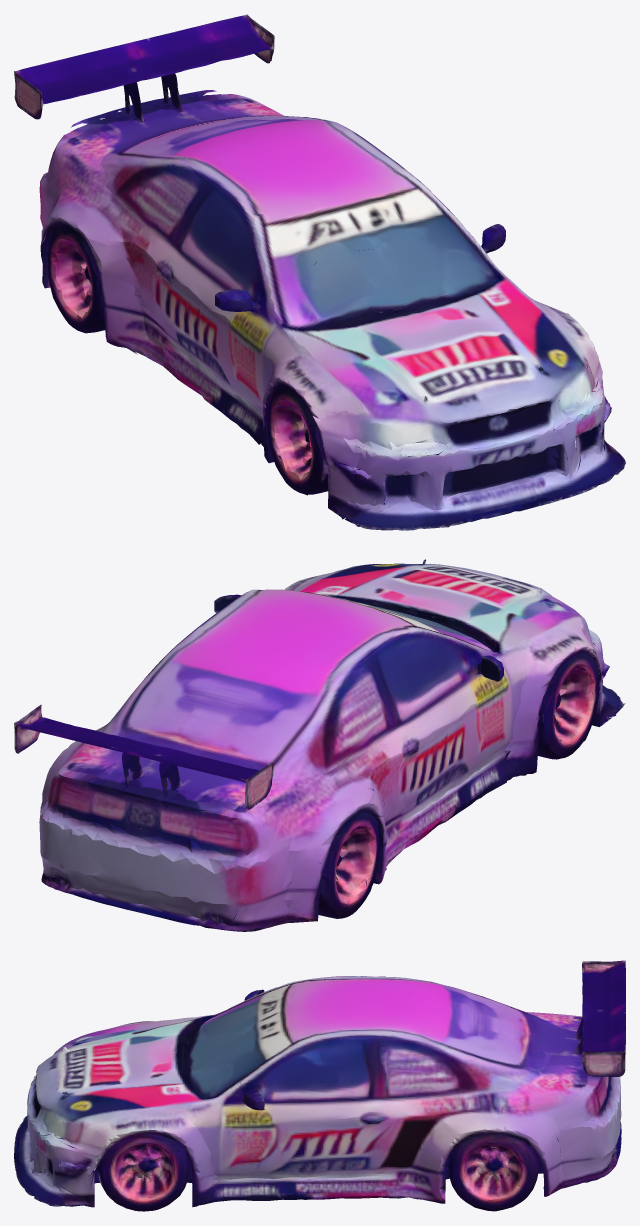
File: supergt3.glb
The picture shows the model from 3 angles, top to bottom: view 1: azimuth 30°, elevation 25°; view 2: azimuth 150°, elevation 25°; view 3: azimuth 270°, elevation 25°; orthographic projection. The views are drawn at different scales.
Visible parts, largest first — view 1: panel_hood, panel_trunk, panel_roof, panel_bumper_f, panel_door_L, susp_front_L, susp_rear_L, wheel_rear_L, wheel_front_L, susp_front_R, panel_bumper_r; view 2: panel_trunk, panel_bumper_r, panel_roof, panel_hood, panel_door_L, susp_rear_L, wheel_rear_L, panel_bumper_f, wheel_front_L, susp_front_L; view 3: panel_trunk, panel_hood, panel_roof, panel_door_R, panel_bumper_f, wheel_rear_R, wheel_front_R, panel_bumper_r, susp_front_R, susp_rear_R.
Boxes of the visible parts, x1,y1,x2,y2 form: panel_hood: [234, 232, 574, 440]; panel_trunk: [14, 14, 348, 352]; panel_roof: [150, 128, 505, 317]; panel_bumper_f: [264, 307, 625, 530]; panel_door_L: [140, 243, 256, 433]; susp_front_L: [205, 390, 453, 530]; susp_rear_L: [40, 217, 201, 395]; wheel_rear_L: [43, 217, 137, 339]; wheel_front_L: [266, 402, 386, 497]; susp_front_R: [553, 349, 625, 492]; panel_bumper_r: [39, 143, 250, 268]; panel_trunk: [14, 633, 395, 884]; panel_bumper_r: [39, 744, 378, 931]; panel_roof: [188, 589, 503, 747]; panel_hood: [291, 559, 571, 788]; panel_door_L: [382, 676, 500, 860]; susp_rear_L: [199, 779, 445, 931]; wheel_rear_L: [291, 803, 382, 918]; panel_bumper_f: [285, 563, 623, 726]; wheel_front_L: [504, 663, 600, 760]; susp_front_L: [446, 618, 625, 821]; panel_trunk: [396, 960, 625, 1203]; panel_hood: [52, 997, 256, 1205]; panel_roof: [241, 976, 415, 1110]; panel_door_R: [235, 1105, 412, 1199]; panel_bumper_f: [14, 1021, 199, 1204]; wheel_rear_R: [445, 1129, 548, 1211]; wheel_front_R: [93, 1130, 194, 1211]; panel_bumper_r: [454, 1077, 621, 1196]; susp_front_R: [19, 1119, 315, 1207]; susp_rear_R: [307, 1132, 617, 1199].
Bounding box in the file's own units: 1.72 × 1.13 × 4.
1 material, 1 textured.
